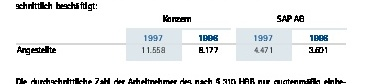table: (0, 0, 367, 84)
